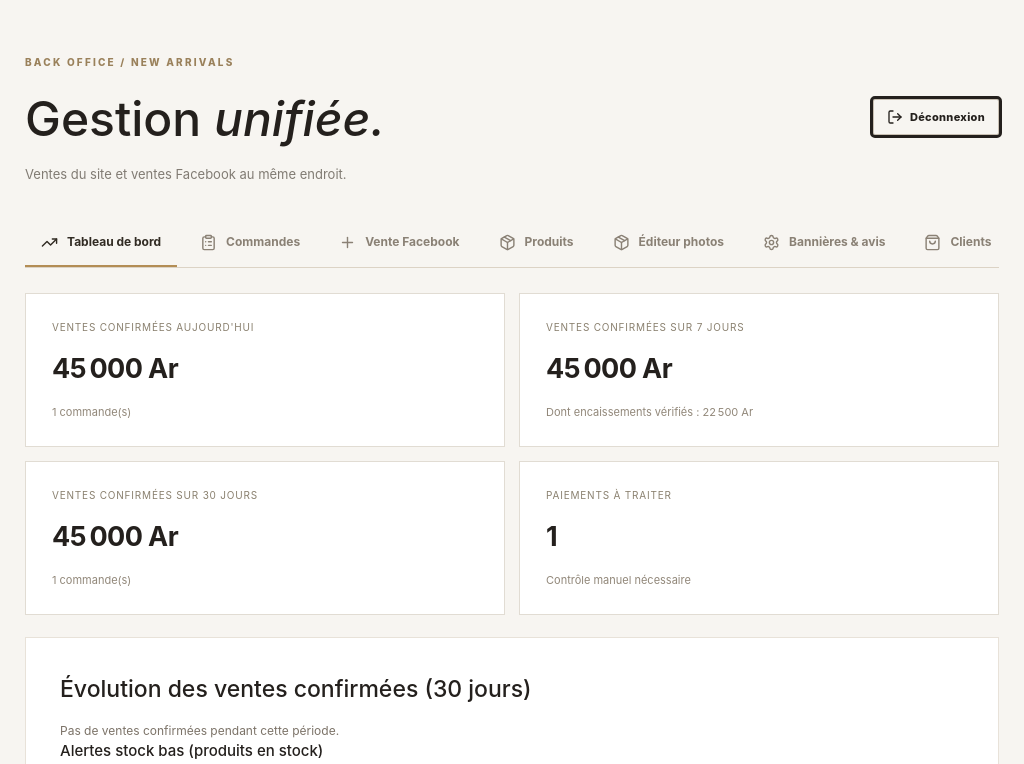
Test: affiche les refus du téléchargement Facture PDF
This screenshot has width=1024, height=764.
Expected: the heading "Gestion unifiée." is shown, 25,82 -> 385,154
Click the button "Commandes": {"x": 250, "y": 243} 184,219 -> 316,267
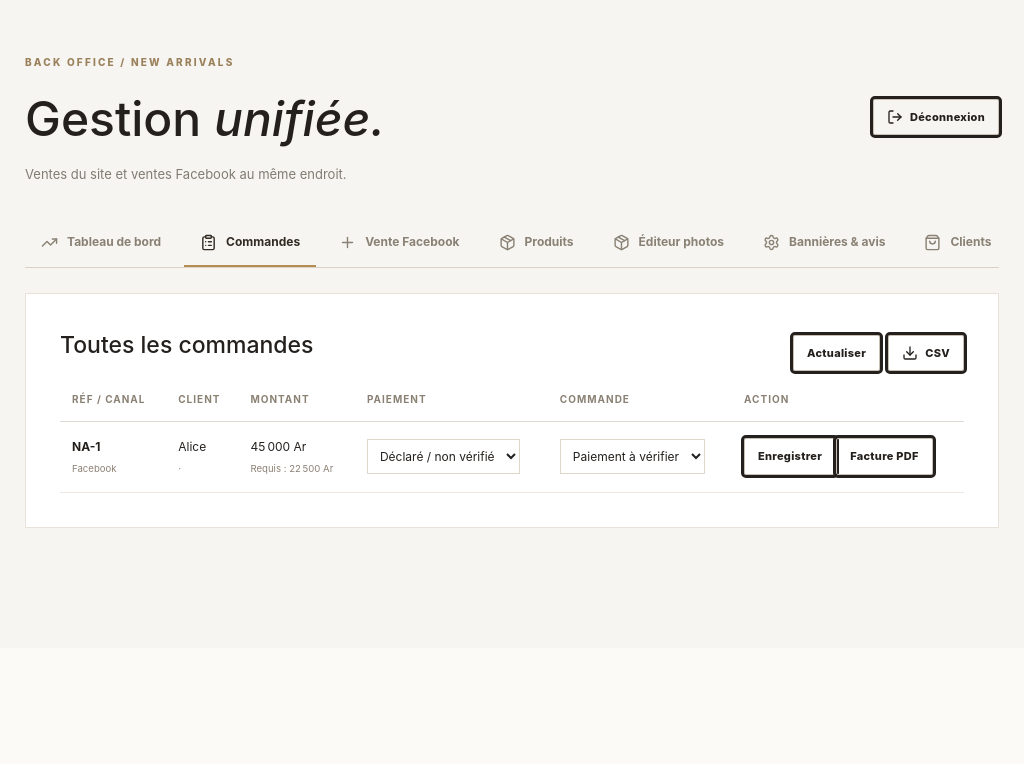
Click the button "Facture PDF": {"x": 884, "y": 457} 836,438 -> 933,475
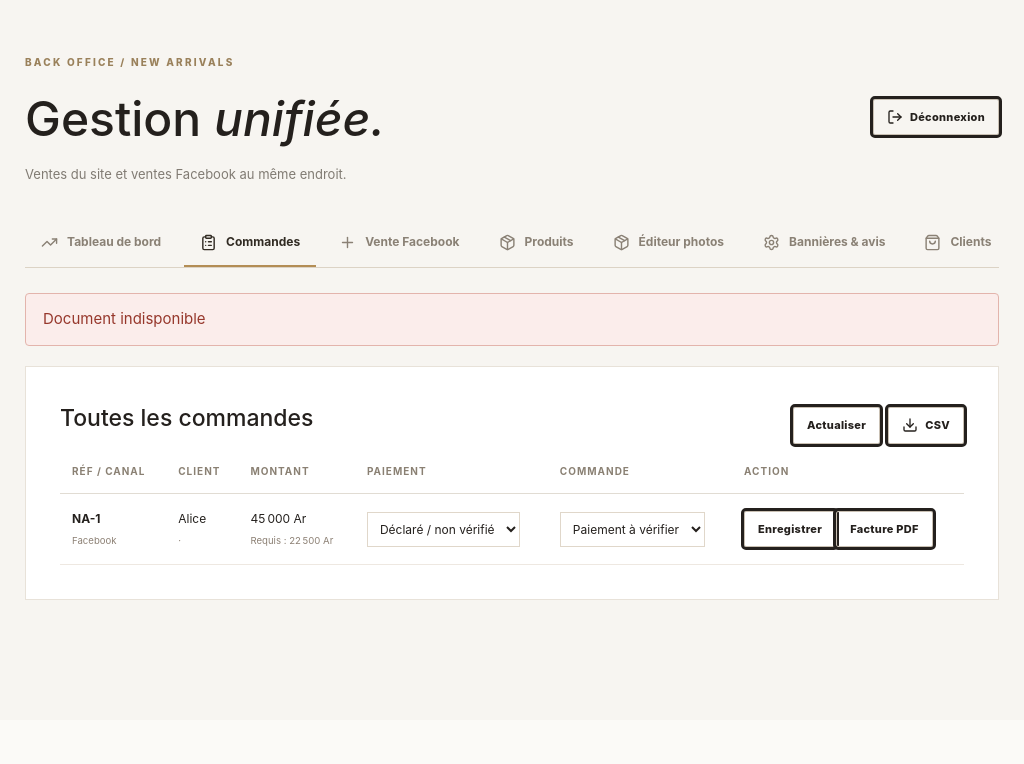
Now the text "Document indisponible" is shown, box 25,293 -> 999,346
